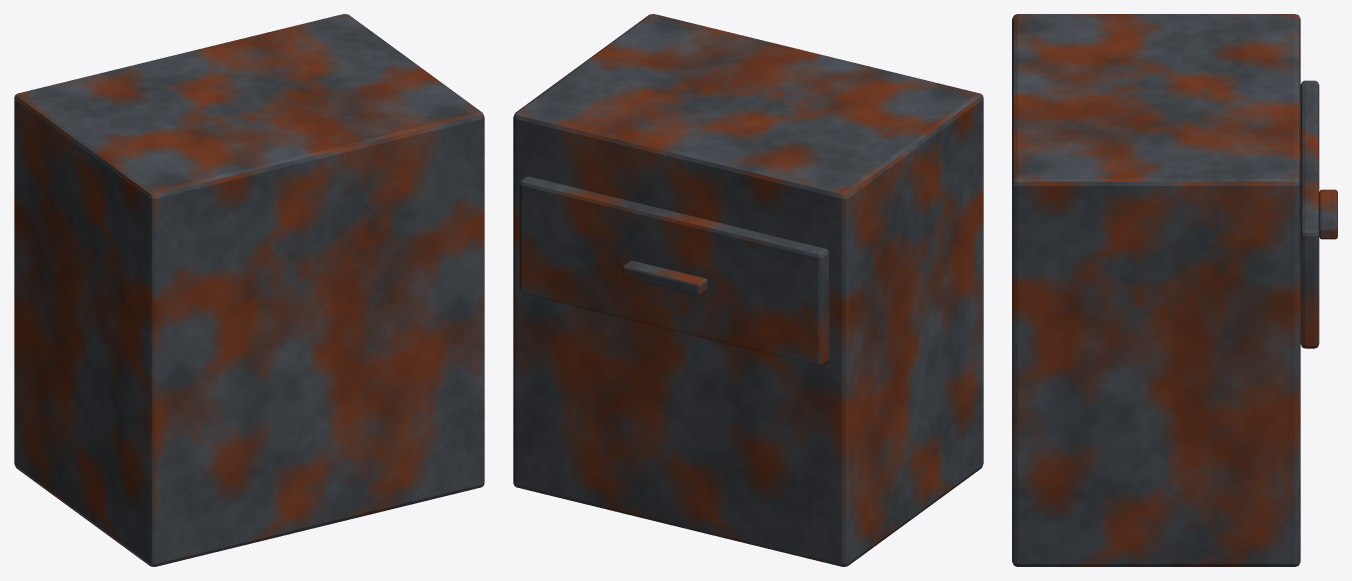
File: cabinet_search.glb
The picture shows the model from 3 angles, left to right: view 1: azimuth 30°, elevation 25°; view 2: azimuth 150°, elevation 25°; view 3: azimuth 270°, elevation 25°; orthographic projection. The views are drawn at different scales.
Parts seen in each view (by area): view 1: CabBody; view 2: CabBody, DrawerFront, DrawerPull; view 3: CabBody, DrawerFront, DrawerPull.
Part boxes in pixels (x1,y1,x2,y2): CabBody: [14, 14, 484, 566]; CabBody: [513, 14, 983, 566]; DrawerFront: [519, 176, 828, 366]; DrawerPull: [622, 260, 707, 295]; CabBody: [1012, 14, 1300, 566]; DrawerFront: [1300, 80, 1319, 348]; DrawerPull: [1319, 189, 1337, 239].
Size of the model in its own units: 0.86 by 0.92 by 0.7.
Materials: 2 (2 with a texture image).
